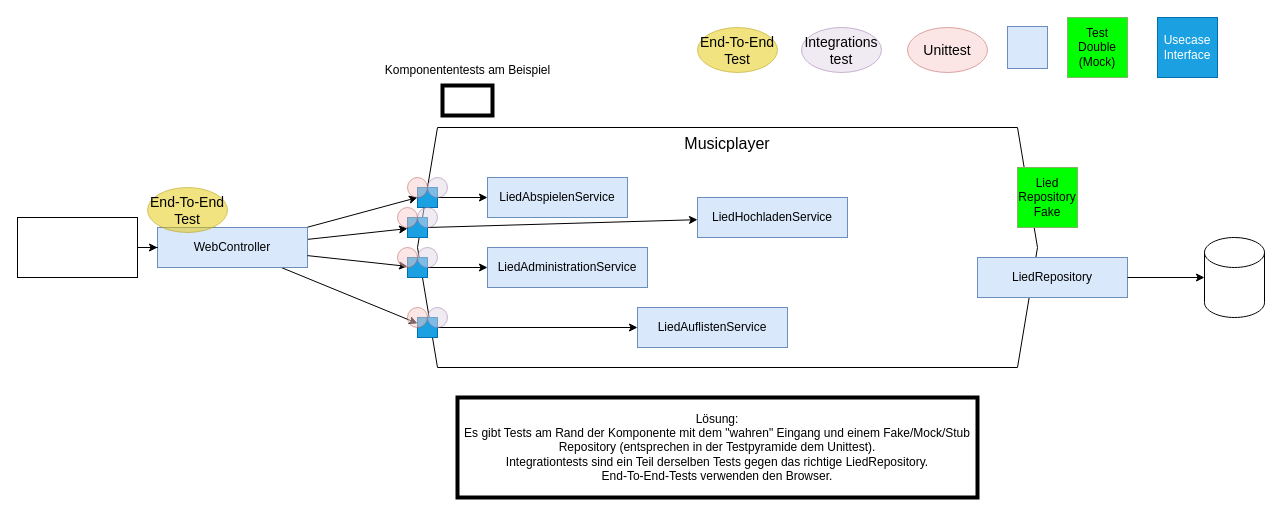
Image size: 1282x517. Some labels were removed from this diagram. Each missing label, with the centre of its shape:
"Browser/ Selenium" goes at (77,247).
"Jetzt" goes at (467,100).
"SQL" goes at (1234,277).
"Unit" goes at (1027,47).
